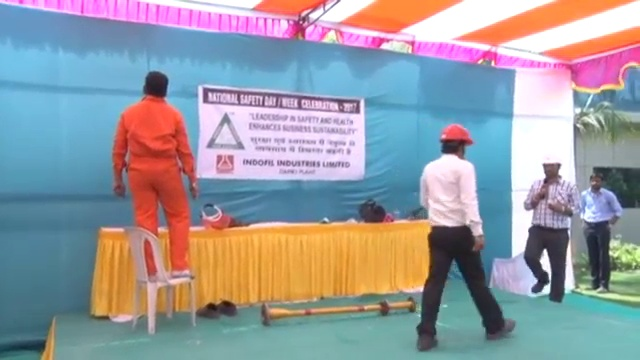helmet: (439, 122, 474, 146), (540, 154, 563, 166)
helmet_off: (140, 70, 170, 101), (587, 170, 605, 190)
helmet_on: (438, 122, 473, 161), (537, 153, 564, 184)
person: (412, 121, 518, 351), (110, 68, 199, 278), (522, 152, 577, 302), (578, 171, 623, 294)
